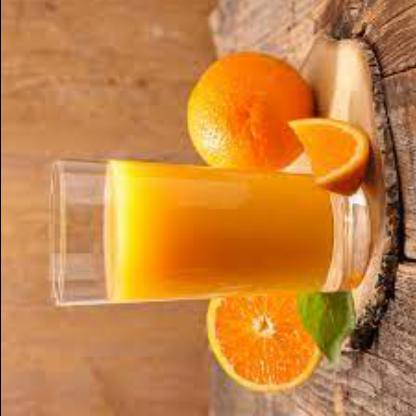orange juice: (100, 158, 336, 302)
